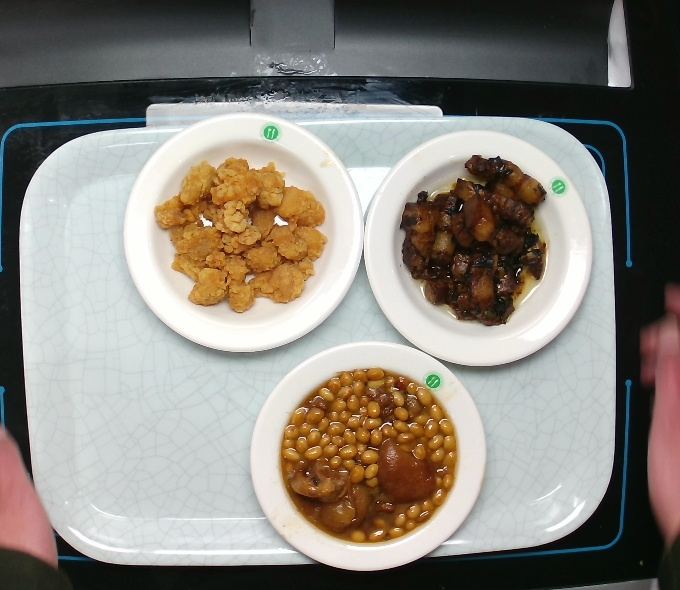wcq-GanCaiRou: (399, 151, 550, 327)
wcq-HuangDouZhuJiao: (277, 365, 460, 544)
wcq-JiMiHua: (151, 156, 328, 312)
